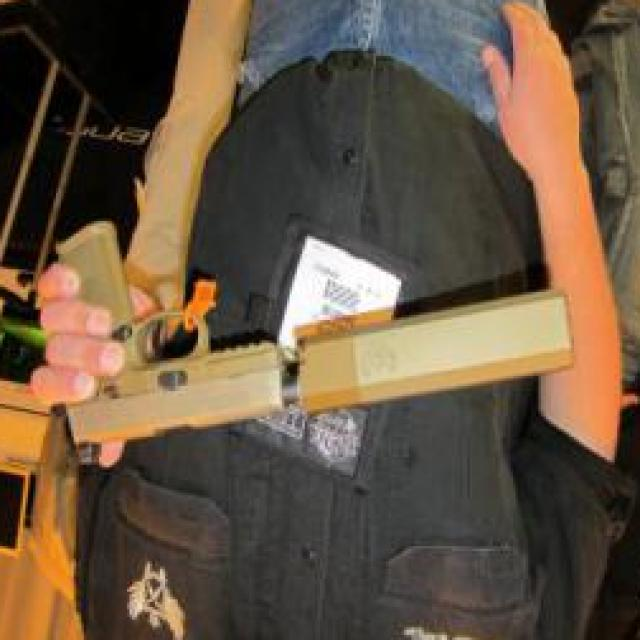pistol: (42, 208, 300, 483)
